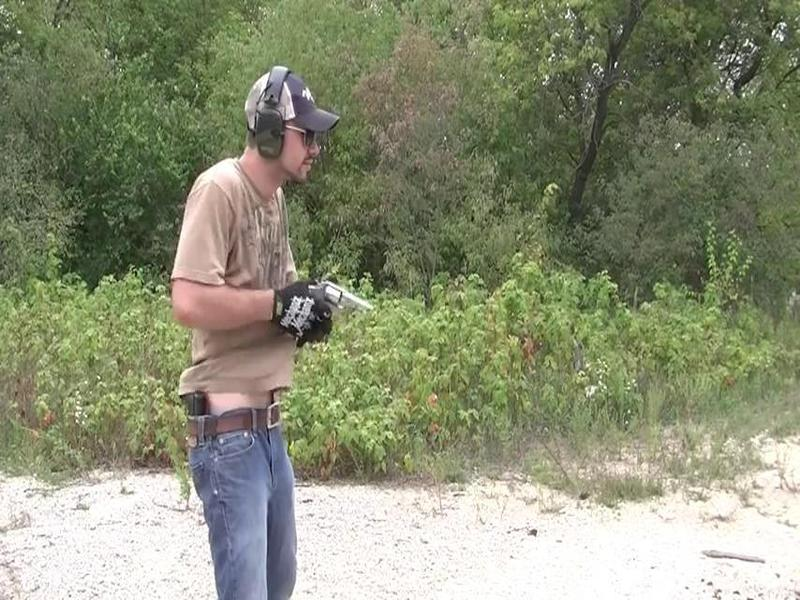Revolver: (277, 271, 373, 334)
